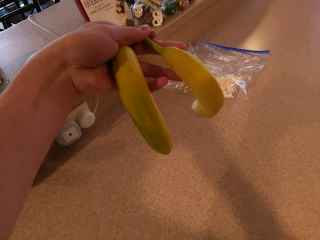banana: (106, 37, 176, 158), (142, 33, 226, 121)
